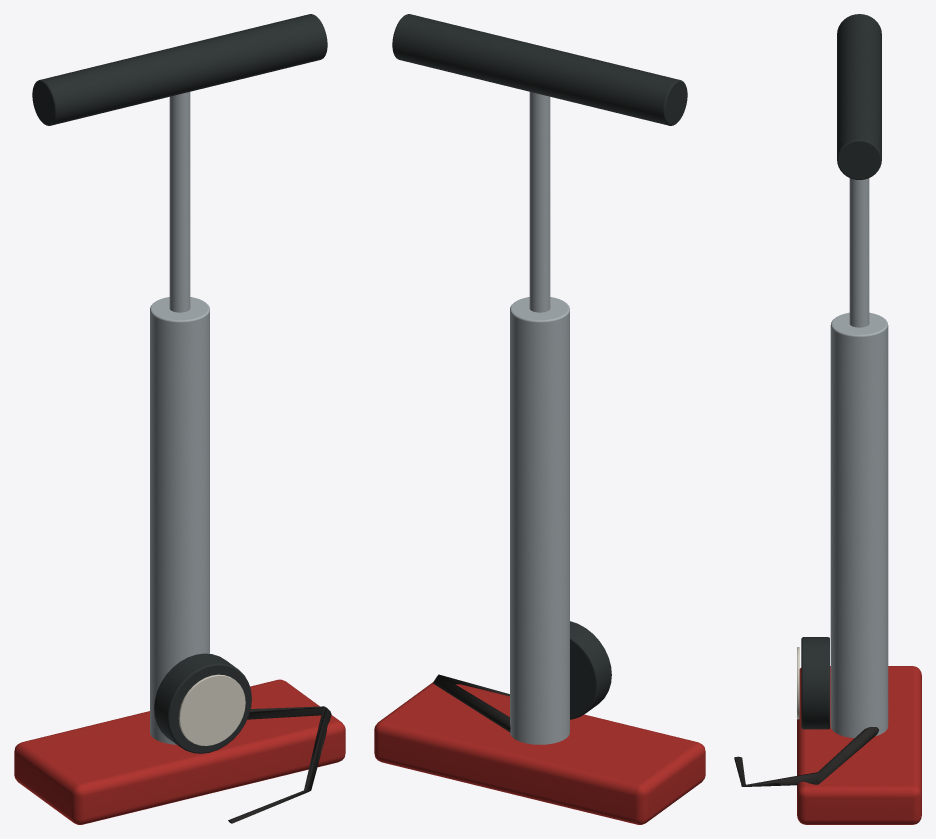
The model's file is FloorPump.gltf.
The picture shows the model from 3 angles, left to right: view 1: azimuth 30°, elevation 25°; view 2: azimuth 150°, elevation 25°; view 3: azimuth 270°, elevation 25°; orthographic projection. The views are drawn at different scales.
Parts seen in each view (by area): view 1: Pump weighted foot, Pump barrel, Pump T-handle, Pump piston rod, Pump pressure gauge, Pump gauge face, Floor-pump hose; view 2: Pump barrel, Pump weighted foot, Pump T-handle, Pump piston rod, Pump pressure gauge, Floor-pump hose; view 3: Pump barrel, Pump weighted foot, Pump T-handle, Pump piston rod, Pump pressure gauge, Floor-pump hose.
Part boxes in pixels (left/top/right/bottom): Pump weighted foot: left=14, top=679, right=345, bottom=824; Pump barrel: left=150, top=297, right=209, bottom=744; Pump T-handle: left=32, top=14, right=327, bottom=125; Pump piston rod: left=169, top=92, right=190, bottom=312; Pump pressure gauge: left=154, top=653, right=251, bottom=753; Pump gauge face: left=178, top=674, right=245, bottom=745; Floor-pump hose: left=228, top=706, right=331, bottom=823; Pump barrel: left=510, top=297, right=569, bottom=744; Pump weighted foot: left=374, top=682, right=705, bottom=824; Pump T-handle: left=392, top=14, right=687, bottom=125; Pump piston rod: left=529, top=92, right=550, bottom=312; Pump pressure gauge: left=570, top=621, right=611, bottom=719; Floor-pump hose: left=433, top=674, right=510, bottom=732; Pump barrel: left=830, top=312, right=888, bottom=738; Pump weighted foot: left=797, top=666, right=921, bottom=824; Pump T-handle: left=837, top=14, right=881, bottom=179; Pump piston rod: left=849, top=178, right=869, bottom=327; Pump pressure gauge: left=801, top=637, right=829, bottom=729; Floor-pump hose: left=734, top=727, right=878, bottom=786.
Bounding box in the file's own units: 0.24 × 0.6083 × 0.1504.
Materials: 5 (5 with a texture image).
